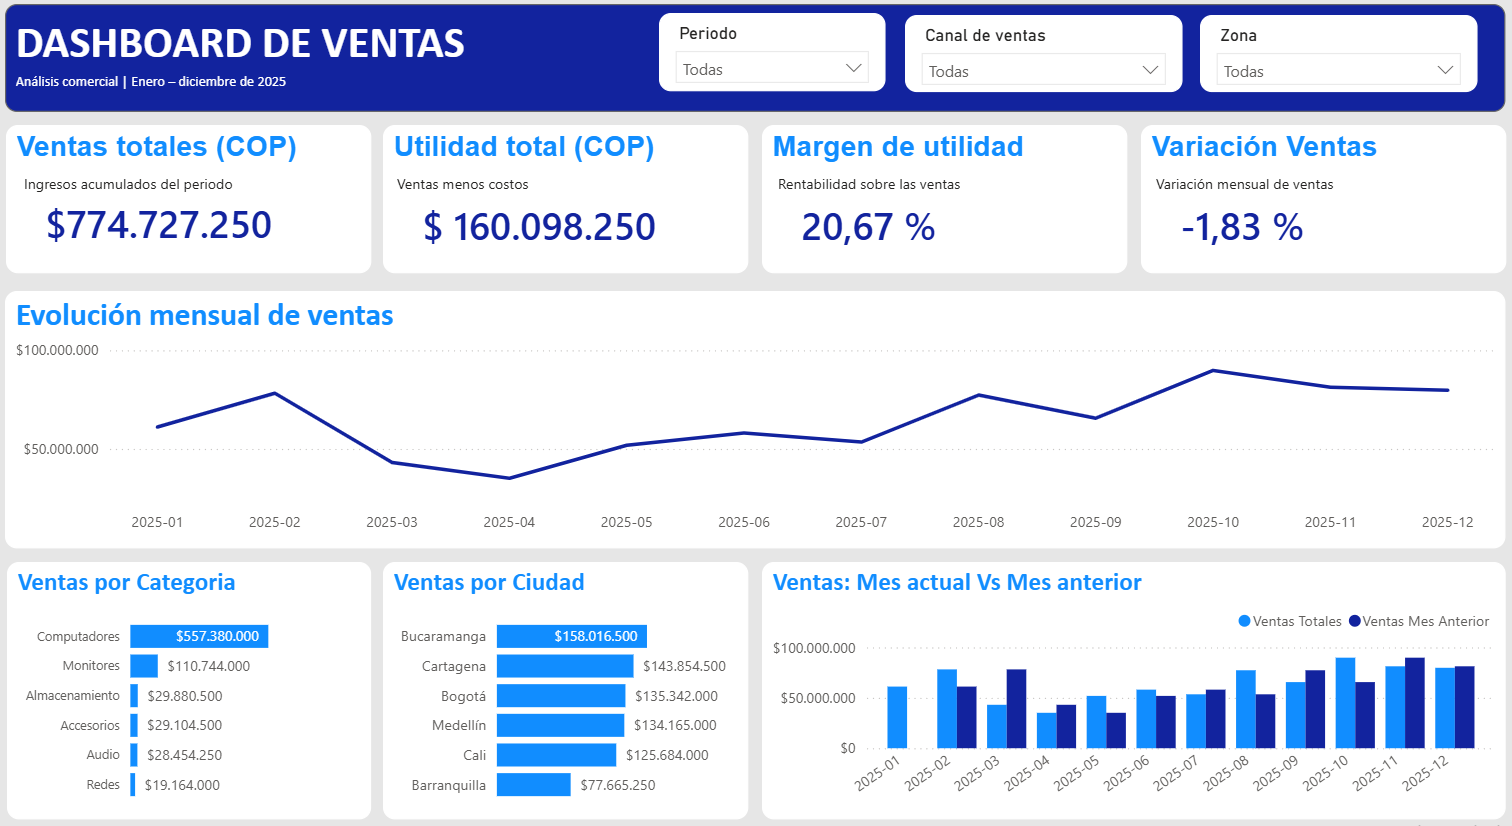

Layout of this report page (visuals, bound fields, positions):
{"tool":"powerbi","page":{"name":"Página 1","canvas":[1280,720],"ordinal":0},"visuals":[{"type":"cardVisual","title":"Margen de utilidad","fields":{"Data":["Ventas.Margen de Utilidad %"]},"box":[646,111,308,125],"z":1000},{"type":"cardVisual","title":"Utilidad total (COP)","fields":{"Data":["Ventas.Utilidad Total"]},"box":[326,111,308,125],"z":2000},{"type":"clusteredBarChart","title":"Ventas por Categoria","fields":{"Category":["Productos.Categoria"],"Y":["Ventas.Ventas Totales"]},"box":[9,480,307,217],"z":3000},{"type":"lineChart","title":"Evolución mensual de ventas","fields":{"Category":["Calendario.AñoMes"],"Y":["Ventas.Ventas Totales"]},"box":[8,251,1265,217],"z":4000},{"type":"clusteredColumnChart","title":"Ventas: Mes actual Vs Mes anterior","fields":{"Category":["Calendario.AñoMes"],"Y":["Ventas.Ventas Totales","Ventas.Ventas Mes Anterior"]},"box":[646,480,627,217],"z":5000},{"type":"cardVisual","title":"Variación Ventas","fields":{"Data":["Ventas.Variacion Ventas Ultimo Mes %"]},"box":[965,111,308,125],"z":6000},{"type":"textbox","box":[8,9,1265,91],"z":7000},{"type":"clusteredBarChart","title":"Ventas por Ciudad","fields":{"Category":["Regiones.Ciudad"],"Y":["Ventas.Ventas Totales"]},"box":[326,480,308,217],"z":8000},{"type":"textbox","box":[973,146,252,28],"z":9000},{"type":"textbox","box":[654,146,252,28],"z":10000},{"type":"textbox","box":[333,146,252,28],"z":11000},{"type":"slicer","title":"Zona","fields":{"Values":["Regiones.Zona"]},"box":[1015,18.3,233.6,64.8],"z":13000},{"type":"slicer","fields":{"Values":["Ventas.Canal"]},"box":[766.7,18.3,233.6,64.8],"z":14000},{"type":"slicer","fields":{"Values":["Calendario.AñoMes"]},"box":[558.8,17.1,190.8,66],"z":15000},{"type":"cardVisual","title":"Ventas totales (COP)","fields":{"Data":["Ventas.Ventas Totales"]},"box":[8.6,111.3,308.2,124.7],"z":16000},{"type":"textbox","box":[18.3,145.5,251.9,28.1],"z":16500}]}

Visuals, with their boxes in screenshot pixels (x1, y1, x2, y2), scaled from the page's 1280x720 canvas onto the 1512x826 screenshot:
"Margen de utilidad" cardVisual: Rect(763, 127, 1127, 271)
"Utilidad total (COP)" cardVisual: Rect(385, 127, 749, 271)
"Ventas por Categoria" clusteredBarChart: Rect(11, 551, 373, 800)
"Evolución mensual de ventas" lineChart: Rect(9, 288, 1504, 537)
"Ventas: Mes actual Vs Mes anterior" clusteredColumnChart: Rect(763, 551, 1504, 800)
"Variación Ventas" cardVisual: Rect(1140, 127, 1504, 271)
textbox: Rect(9, 10, 1504, 115)
"Ventas por Ciudad" clusteredBarChart: Rect(385, 551, 749, 800)
textbox: Rect(1149, 167, 1447, 200)
textbox: Rect(773, 167, 1070, 200)
textbox: Rect(393, 167, 691, 200)
"Zona" slicer: Rect(1199, 21, 1475, 95)
slicer - Ventas.Canal: Rect(906, 21, 1182, 95)
slicer - Calendario.AñoMes: Rect(660, 20, 885, 95)
"Ventas totales (COP)" cardVisual: Rect(10, 128, 374, 271)
textbox: Rect(22, 167, 319, 199)
